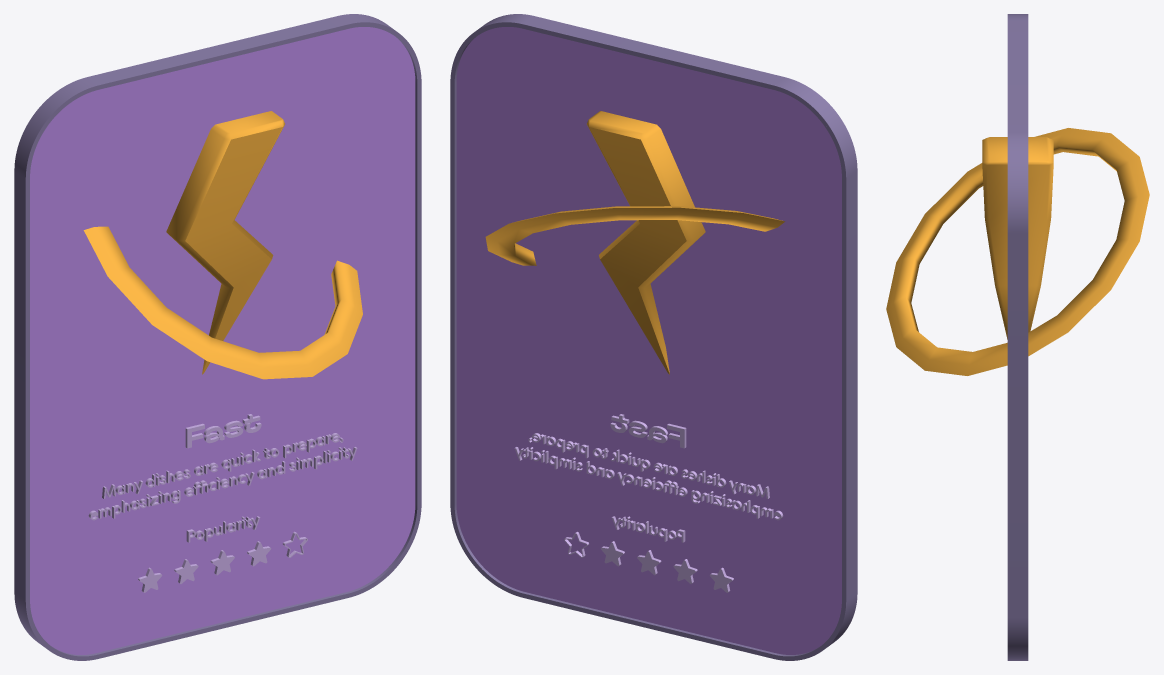
The model's file is fast.gltf.
The picture shows the model from 3 angles, left to right: view 1: azimuth 30°, elevation 25°; view 2: azimuth 150°, elevation 25°; view 3: azimuth 270°, elevation 25°; orthographic projection. The views are drawn at different scales.
Visible parts, largest first — view 1: Mesh_2706.001, Pickup_Thunder.001, Mesh_2371.002, Mesh_929.002, Mesh_2634.001, Mesh_2610.002; view 2: Mesh_2706.001, Mesh_2371.002, Pickup_Thunder.001, Mesh_929.002, Mesh_2634.001, Mesh_2610.002; view 3: Pickup_Thunder.001, Mesh_2371.002.
Part boxes in pixels (x1,y1,x2,y2): Mesh_2706.001: (30, 27, 415, 654); Pickup_Thunder.001: (83, 111, 362, 379); Mesh_2371.002: (14, 14, 421, 660); Mesh_929.002: (88, 433, 357, 542); Mesh_2634.001: (138, 531, 307, 592); Mesh_2610.002: (185, 414, 261, 448); Mesh_2706.001: (456, 27, 841, 654); Mesh_2371.002: (450, 14, 857, 660); Pickup_Thunder.001: (485, 111, 785, 374); Mesh_929.002: (514, 433, 783, 542); Mesh_2634.001: (564, 531, 733, 592); Mesh_2610.002: (610, 414, 686, 448); Pickup_Thunder.001: (886, 128, 1149, 375); Mesh_2371.002: (1007, 14, 1028, 660).
Bounding box in the file's own units: 0.3625 × 0.5019 × 0.2299.
30 materials, 28 textured.
